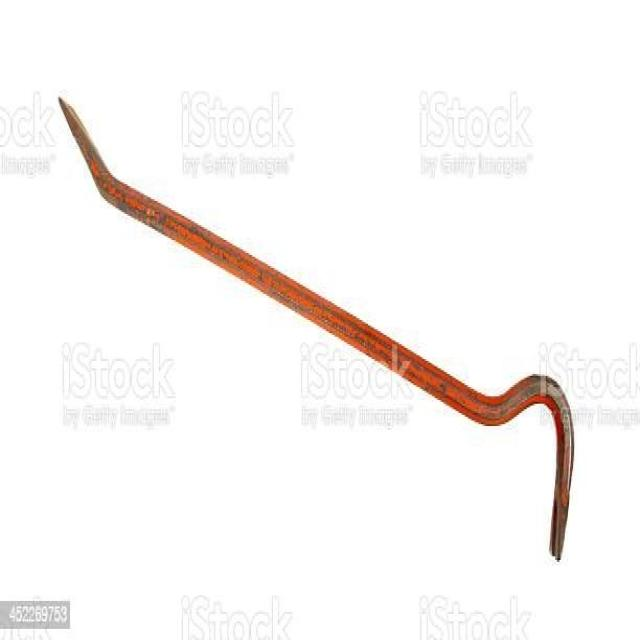Linggis: (61, 95, 576, 562)
